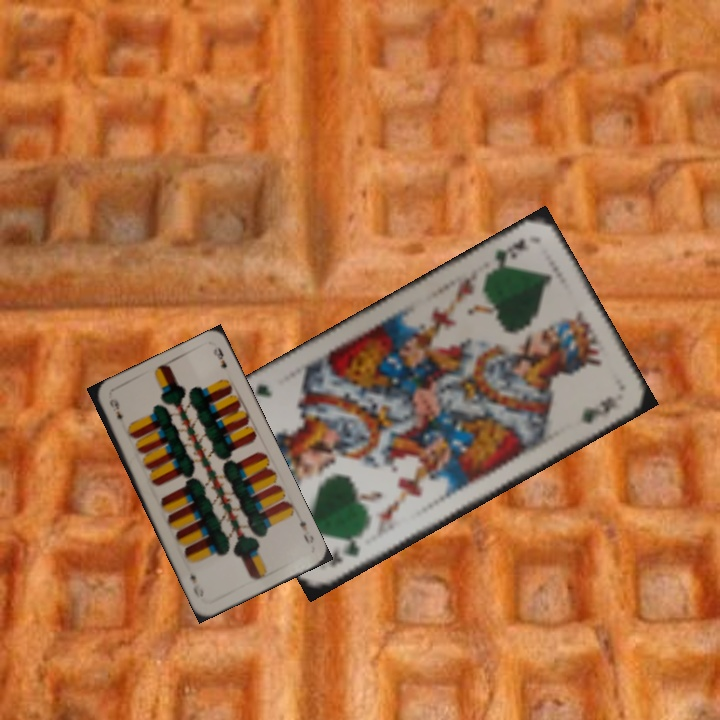E9: (294, 512, 317, 547), (105, 395, 126, 423)
GK: (485, 234, 529, 276), (326, 536, 364, 570)
